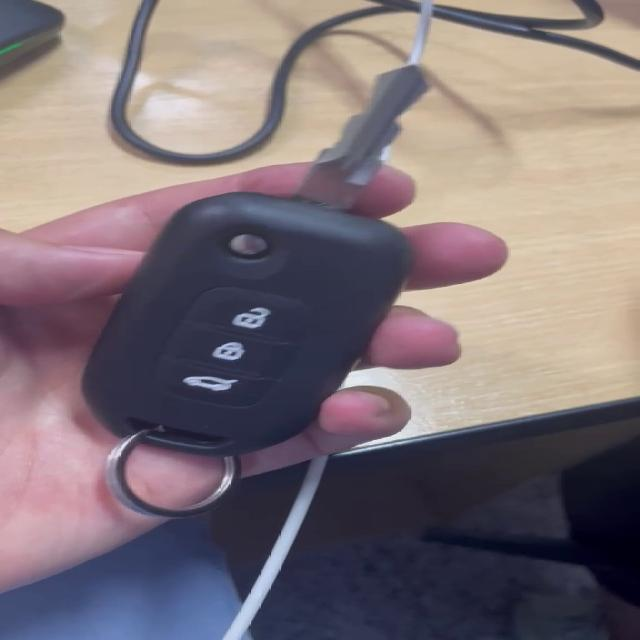llave-auto: (39, 27, 559, 540)
